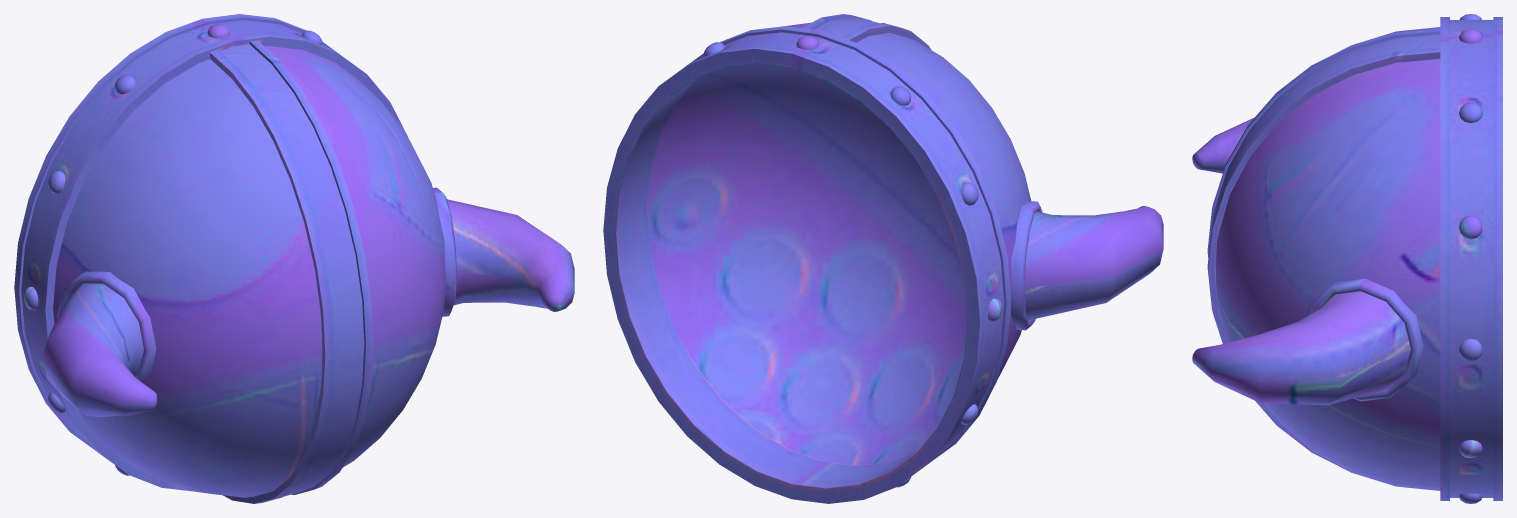
Rendered from Headwear19.glb.
The picture shows the model from 3 angles, left to right: view 1: azimuth 30°, elevation 25°; view 2: azimuth 150°, elevation 25°; view 3: azimuth 270°, elevation 25°; orthographic projection.
Parts seen in each view (by area): view 1: Headwear19; view 2: Headwear19; view 3: Headwear19.
Boxes of the visible parts, box(x1,y1,x2,y2) form: Headwear19: box(14, 14, 574, 503); Headwear19: box(603, 14, 1163, 503); Headwear19: box(1192, 14, 1502, 503).
Size of the model in its own units: 2.56 by 2.22 by 1.37.
Materials: 1 (1 with a texture image).
